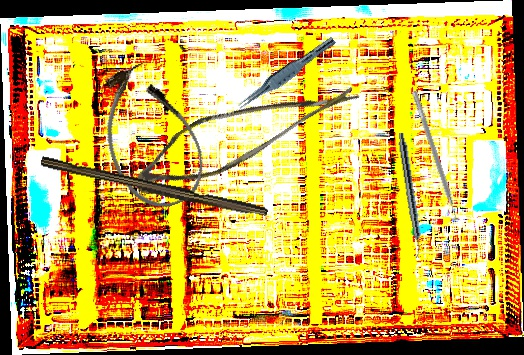Cannula: (84, 54, 216, 220)
Handpiece: (394, 132, 426, 259)
Micro Scissor: (129, 36, 363, 223)
Scalpel Handle: (38, 156, 270, 221)
Spatula Surgical: (405, 90, 462, 224)
Tissue Forceps: (235, 30, 337, 116)
